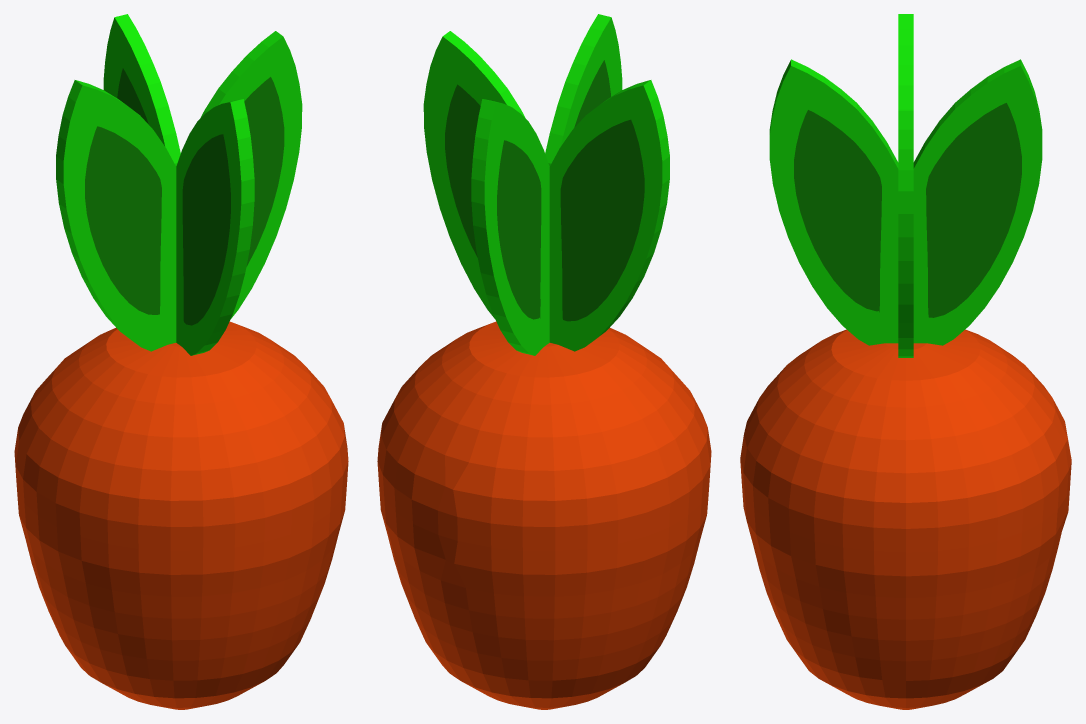
File: turp.fbx
3 views of the same model, side by side, from view 1: azimuth 30°, elevation 25°; view 2: azimuth 150°, elevation 25°; view 3: azimuth 270°, elevation 25° (orthographic).
Parts seen in each view (by area): view 1: Cylinder.001; view 2: Cylinder.001; view 3: Cylinder.001.
Part boxes in pixels (x1,y1,x2,y2): Cylinder.001: (14,14,348,709); Cylinder.001: (377,14,711,709); Cylinder.001: (740,14,1071,709).
Bounding box in the file's own units: 199 × 423 × 199.
